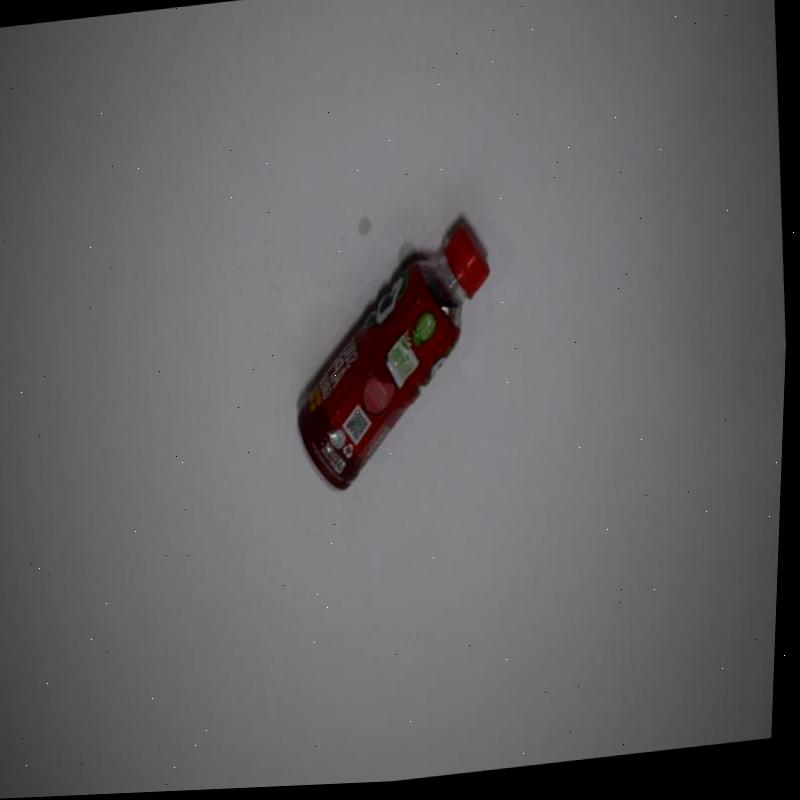botella: (283, 218, 511, 497)
